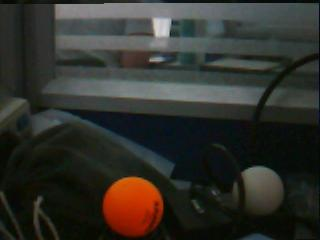oball: (104, 176, 164, 236)
